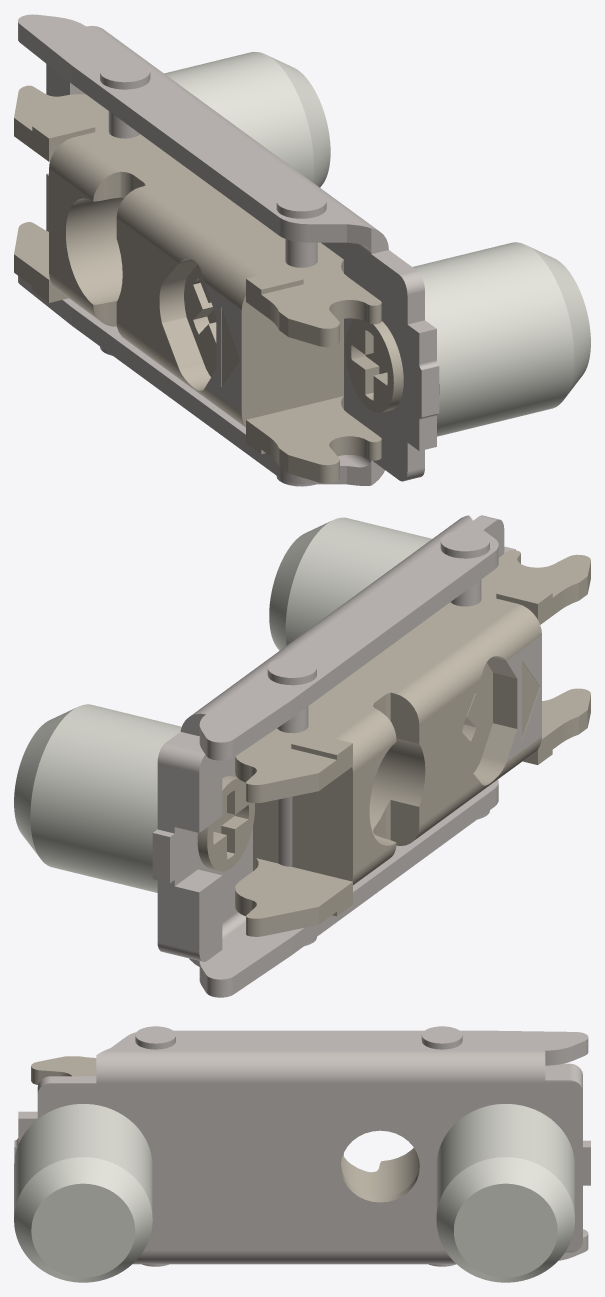
3 views of the same model, one above another, from view 1: azimuth 30°, elevation 25°; view 2: azimuth 150°, elevation 25°; view 3: azimuth 270°, elevation 25° (orthographic). The views are drawn at different scales.
Parts seen in each view (by area): view 1: bau0024711722; view 2: bau0024711722; view 3: bau0024711722.
Boxes of the visible parts, box(x1,y1,x2,y2) form: bau0024711722: box(14, 14, 590, 486); bau0024711722: box(14, 515, 590, 997); bau0024711722: box(14, 1026, 590, 1282).
Bounding box in the file's own units: 20 × 18.65 × 43.7.
